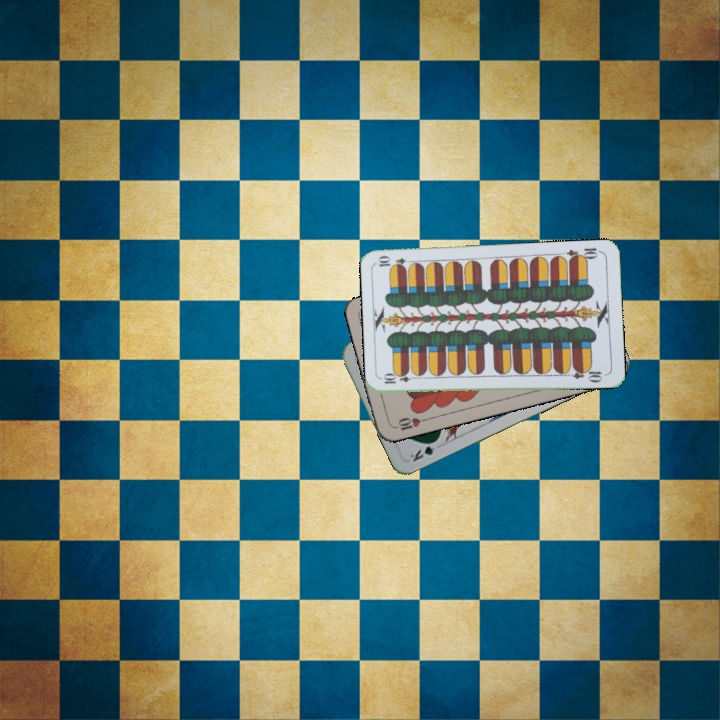E10: (563, 244, 604, 264), (380, 371, 420, 386)
GK: (406, 436, 441, 465)
H10: (390, 413, 430, 434)
